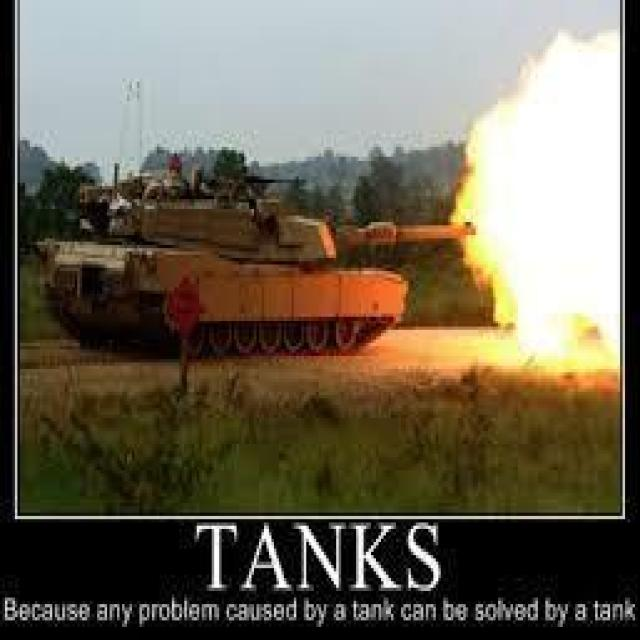Tanks: (46, 86, 494, 416)
